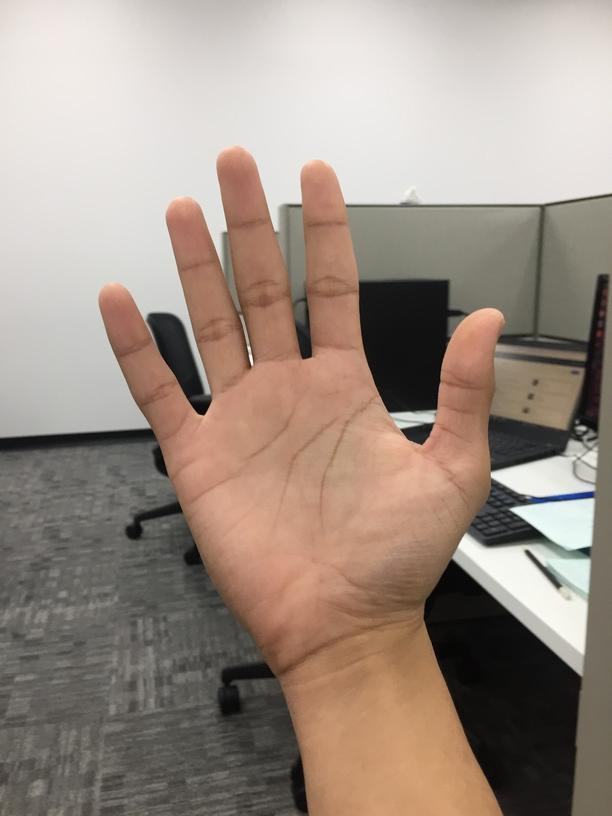hand: (94, 141, 507, 645)
